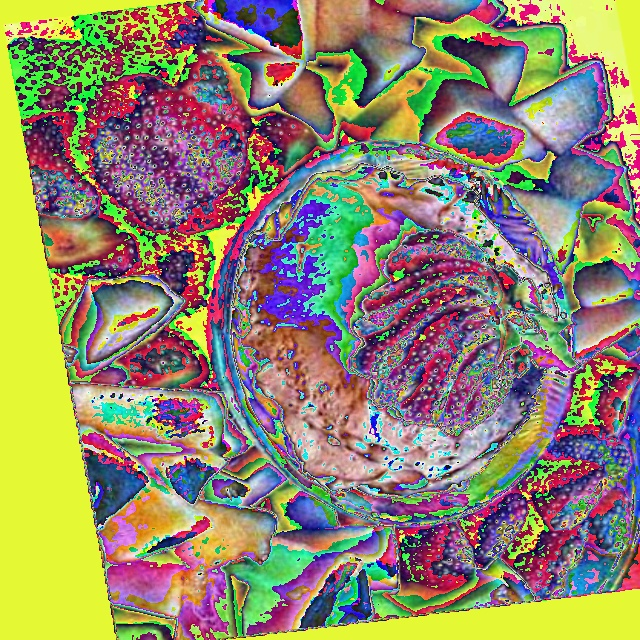background: (7, 0, 639, 640)
